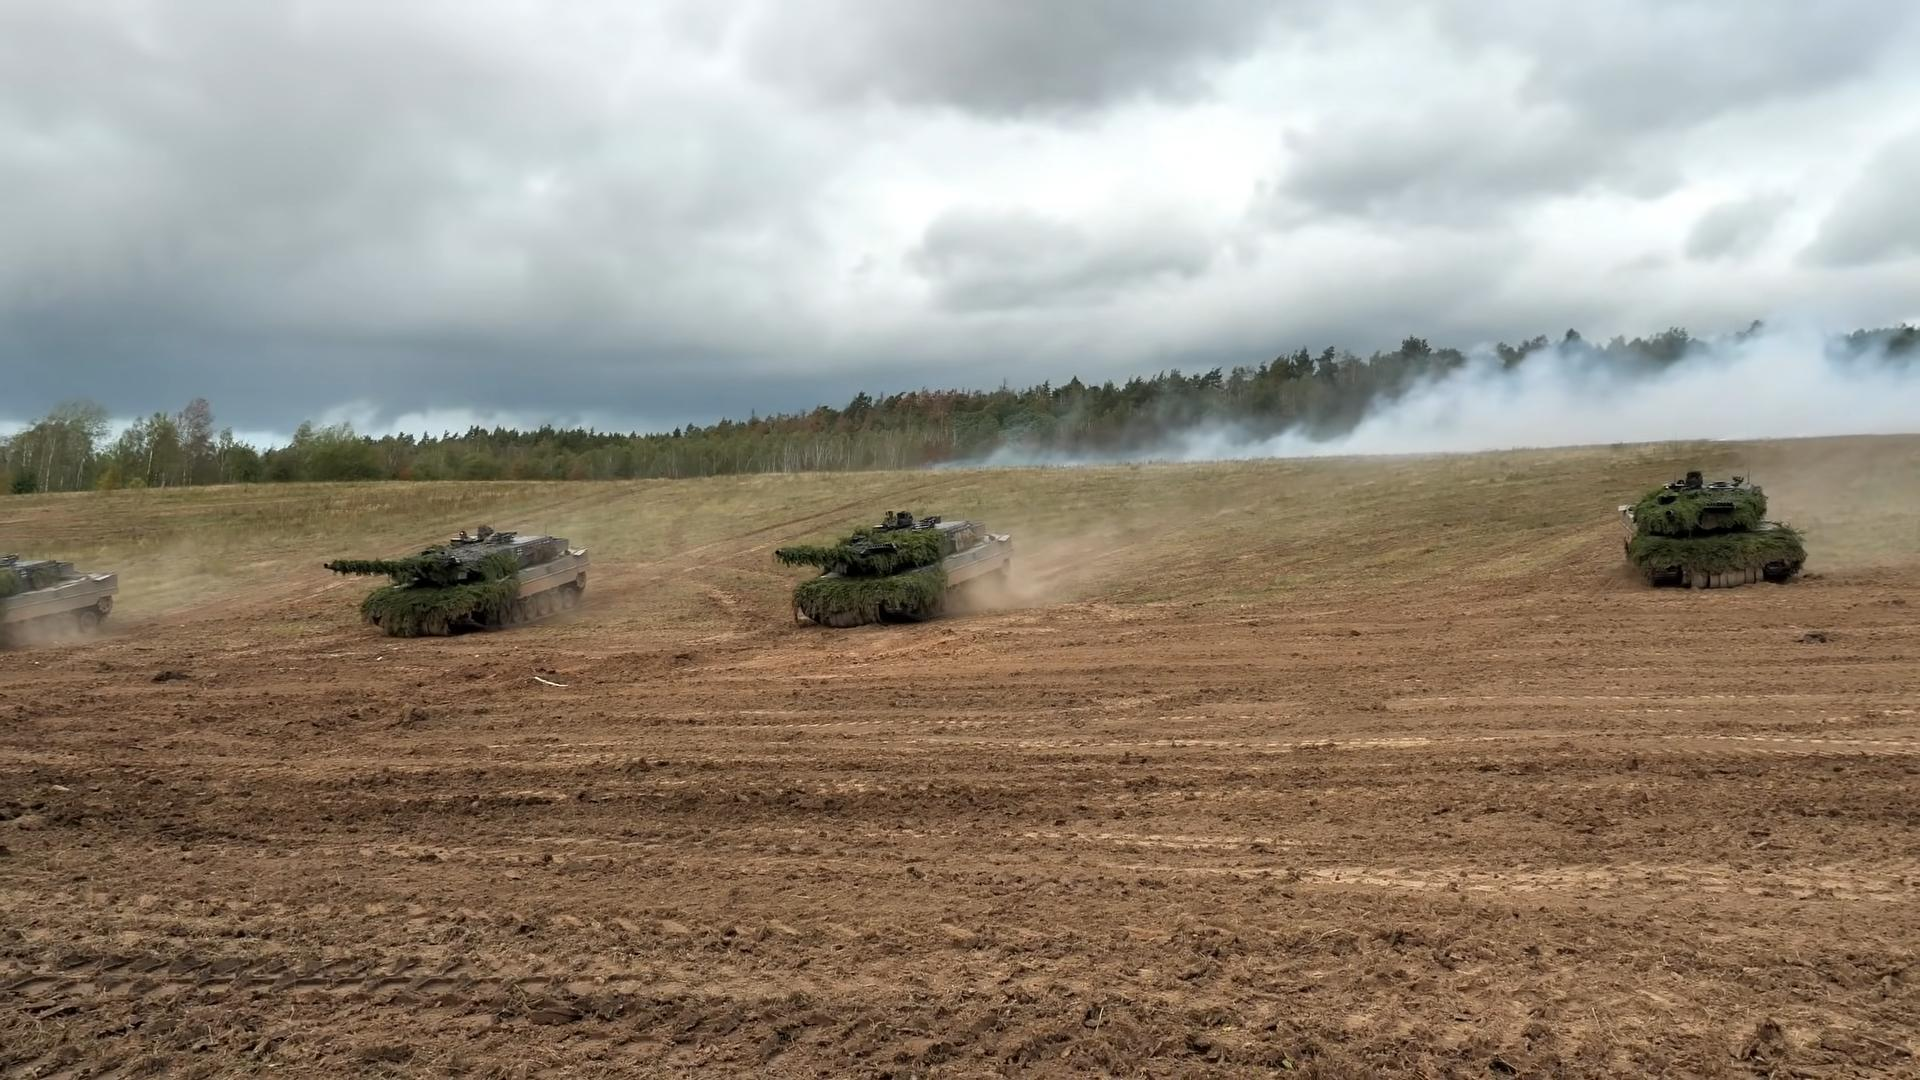tank: (324, 524, 588, 636), (778, 509, 1013, 628), (1617, 471, 1808, 589), (1, 554, 121, 646)
